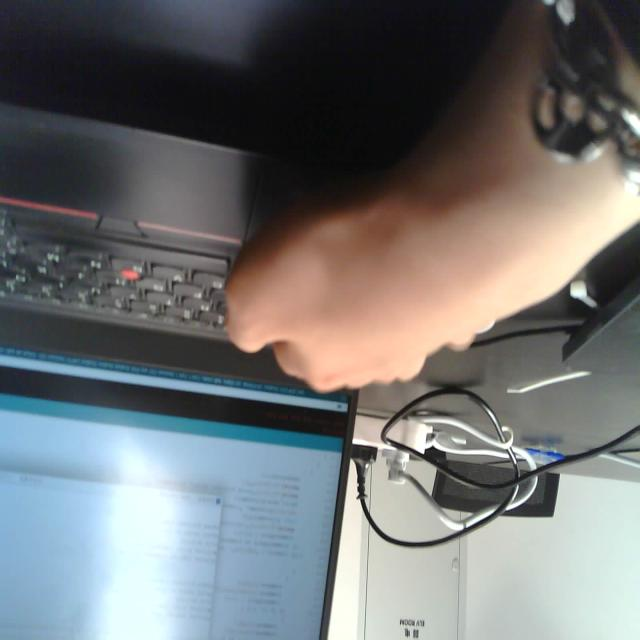keyboard-with-hands: (0, 102, 380, 357)
